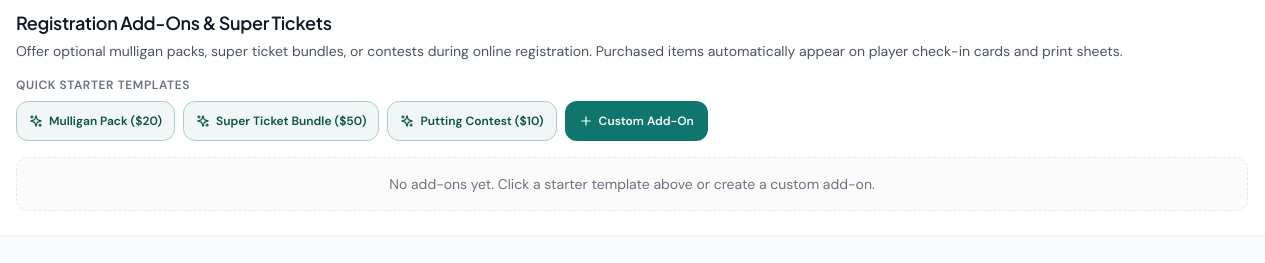
Scenario: TournamentAddOnsPanel › loads add-ons and allows one-click starter template creation
Click the button "Mulligan Pack ($20)" at point(96, 121), box [16,101,175,141]
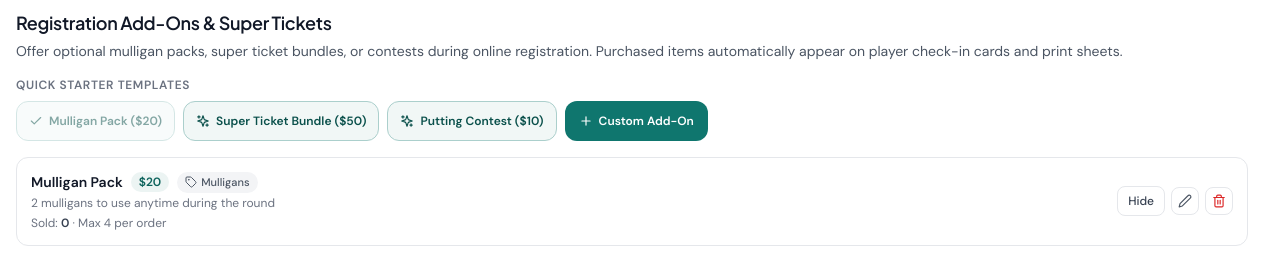
Check: the text "2 mulligans to use anytime" is shown, box [31,194,275,210]
